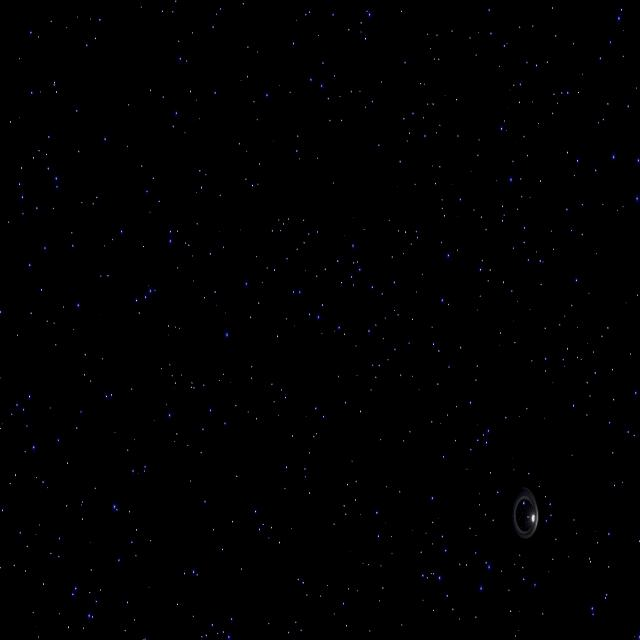large_debris: (508, 479, 541, 553)
